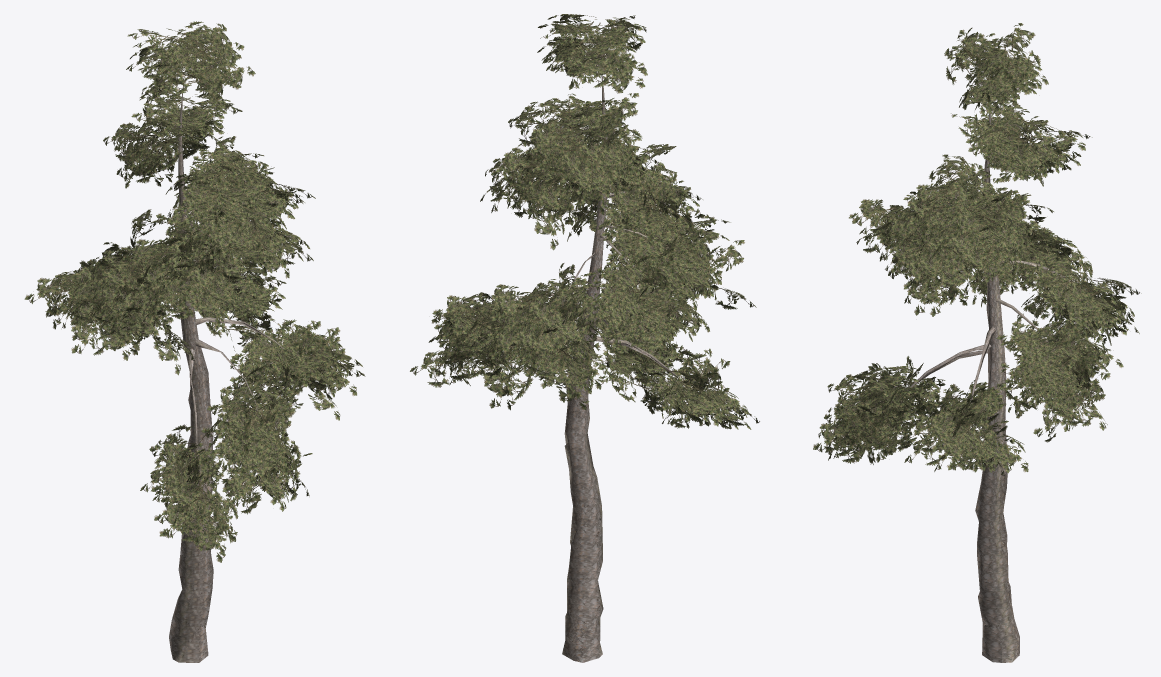
File: ponderosa.glb
3 views of the same model, side by side, from view 1: azimuth 30°, elevation 25°; view 2: azimuth 150°, elevation 25°; view 3: azimuth 270°, elevation 25° (orthographic). The views are drawn at different scales.
Visible parts, largest first — view 1: Object_20, Object_18; view 2: Object_20, Object_18; view 3: Object_20, Object_18.
Boxes of the visible parts, <box> form: Object_20: <box>24,21,365,562</box>; Object_18: <box>103,38,283,662</box>; Object_20: <box>410,14,759,429</box>; Object_18: <box>473,34,684,662</box>; Object_20: <box>813,23,1141,478</box>; Object_18: <box>880,106,1068,662</box>.
Bounding box in the file's own units: 0.5165 × 1 × 0.5117.
Materials: 2 (2 with a texture image).
